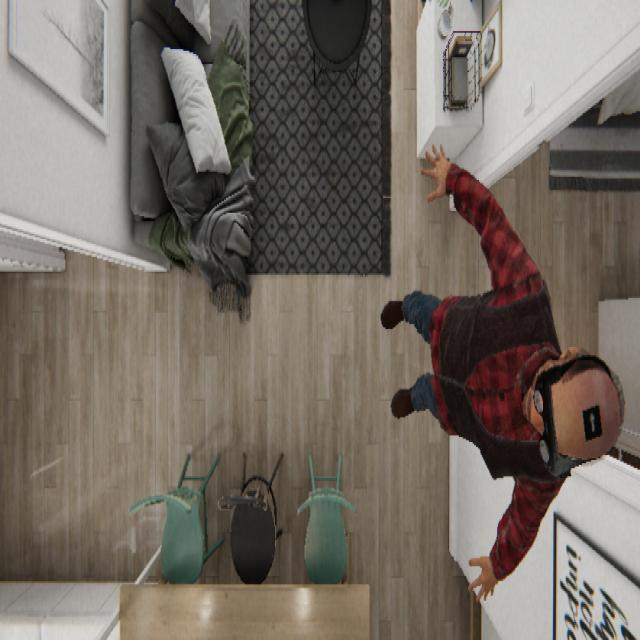Human: (380, 141, 626, 604)
UnityLogo: (580, 401, 602, 442)
